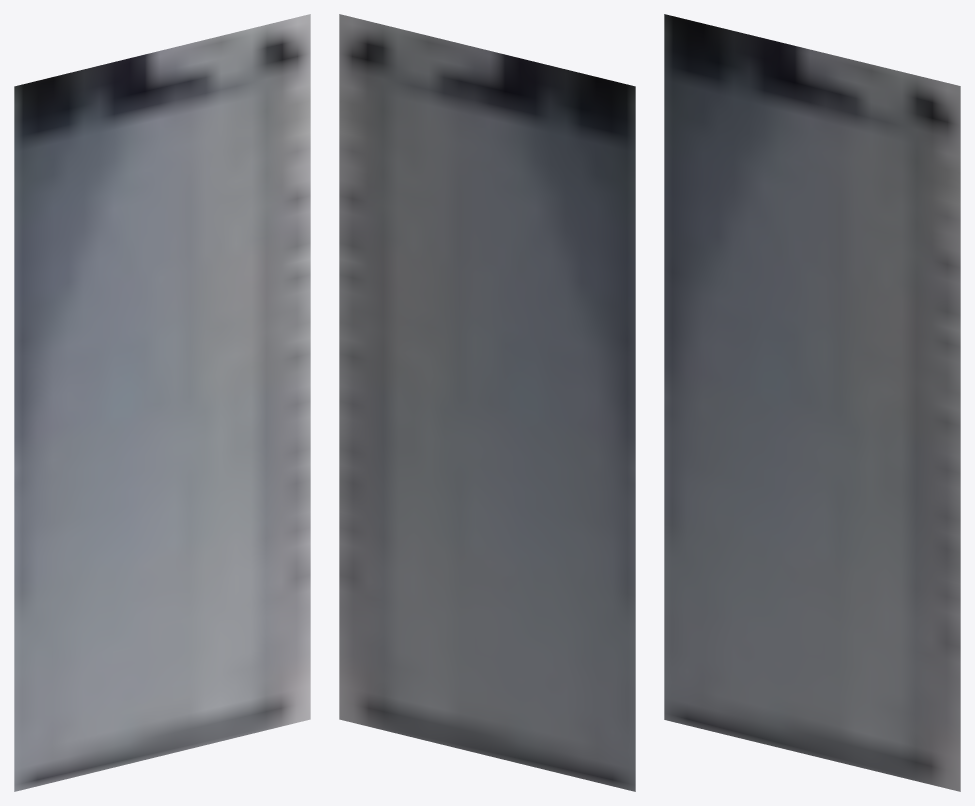
The model's file is ProjectionDistantBox.fbx.
3 renders of one model, left to right at view 1: azimuth 30°, elevation 25°; view 2: azimuth 150°, elevation 25°; view 3: azimuth 330°, elevation 25°, orthographic.
Parts seen in each view (by area): view 1: ProjectBox; view 2: ProjectBox; view 3: ProjectBox.
Part boxes in pixels (x1,y1,x2,y2): ProjectBox: (14, 14, 310, 791); ProjectBox: (339, 14, 635, 791); ProjectBox: (664, 14, 960, 791).
Size of the model in its own units: 1.28 by 2.9 by 1.53e-05.
Materials: 1 (1 with a texture image).
